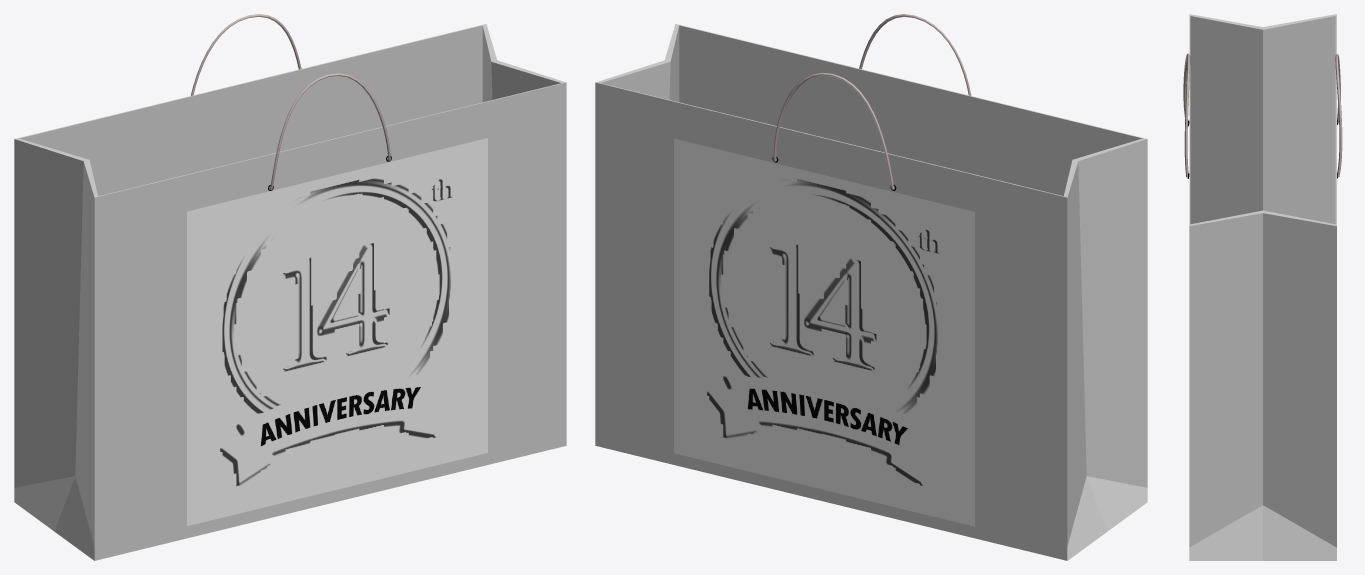
The model's file is NewBagHorizontal 1.fbx.
3 views of the same model, side by side, from view 1: azimuth 30°, elevation 25°; view 2: azimuth 150°, elevation 25°; view 3: azimuth 270°, elevation 25° (orthographic). The views are drawn at different scales.
Parts seen in each view (by area): view 1: Cube; view 2: Cube; view 3: Cube.
Part boxes in pixels (x1=…): Cube: x1=14, y1=14, x2=566, y2=560; Cube: x1=595, y1=14, x2=1147, y2=560; Cube: x1=1183, y1=14, x2=1342, y2=560.
Size of the model in its own units: 340 by 296 by 118.
